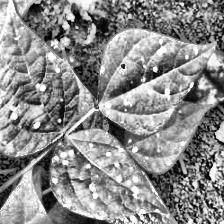Bean Rust: (0, 0, 80, 157), (48, 128, 175, 224), (101, 38, 217, 110), (123, 104, 215, 166), (0, 0, 81, 46)
